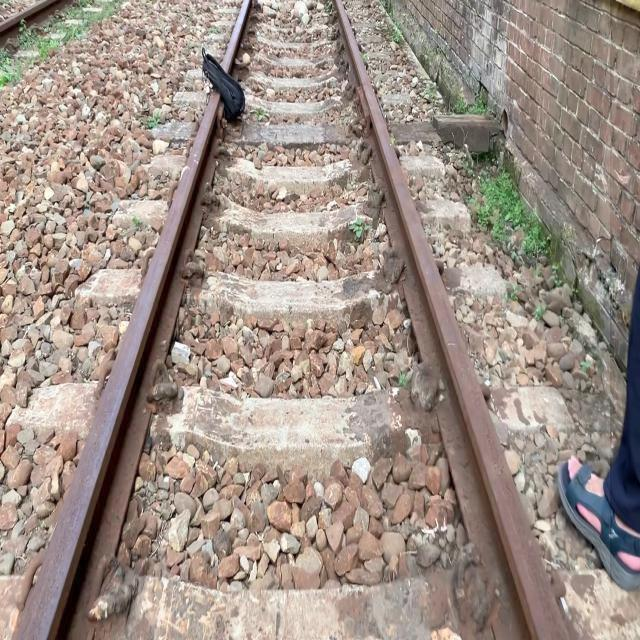rail: (1, 1, 611, 640)
